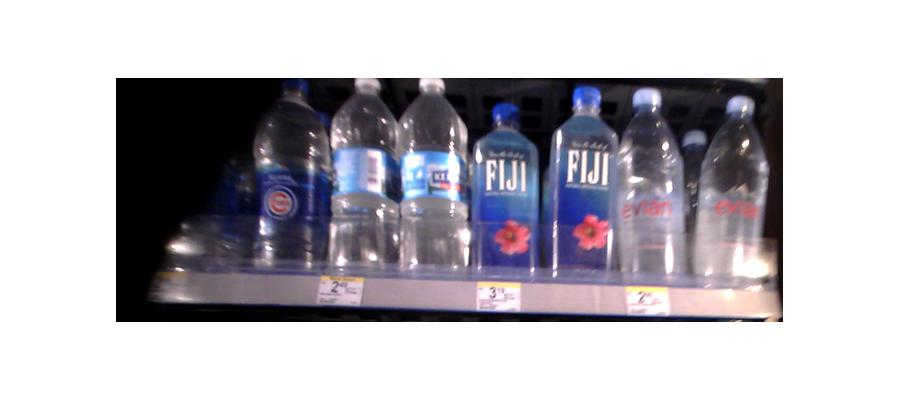bottle: (543, 85, 621, 278), (695, 94, 769, 291), (396, 83, 470, 274), (617, 86, 687, 284), (253, 81, 327, 268), (328, 78, 396, 269), (472, 101, 543, 279)
